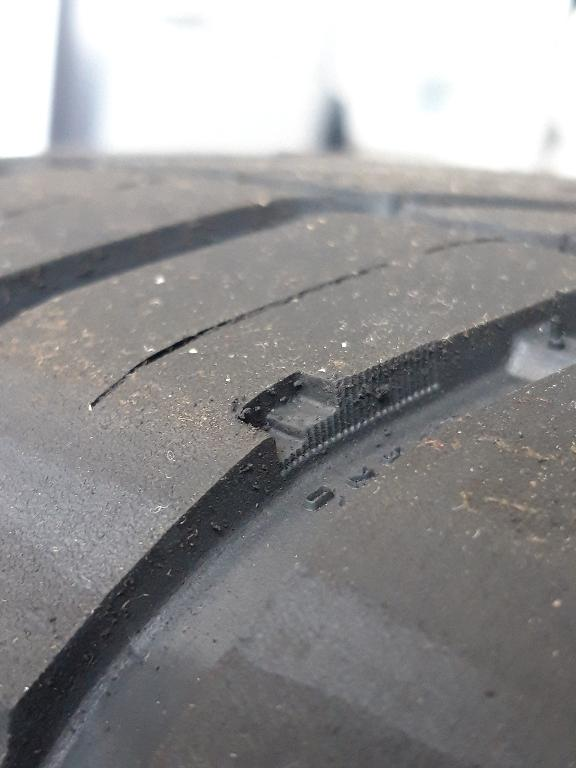temoin:50: (229, 354, 382, 480)
